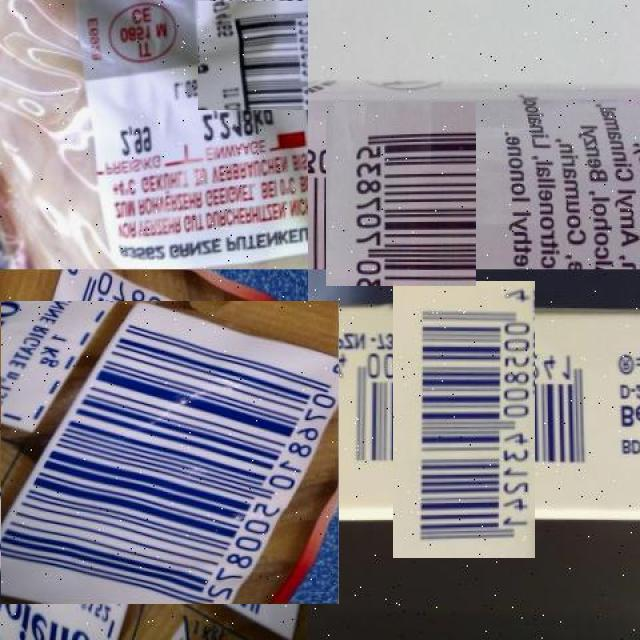Barcode: (0, 285, 324, 620), (359, 315, 570, 524), (317, 110, 484, 278), (198, 1, 309, 110)
